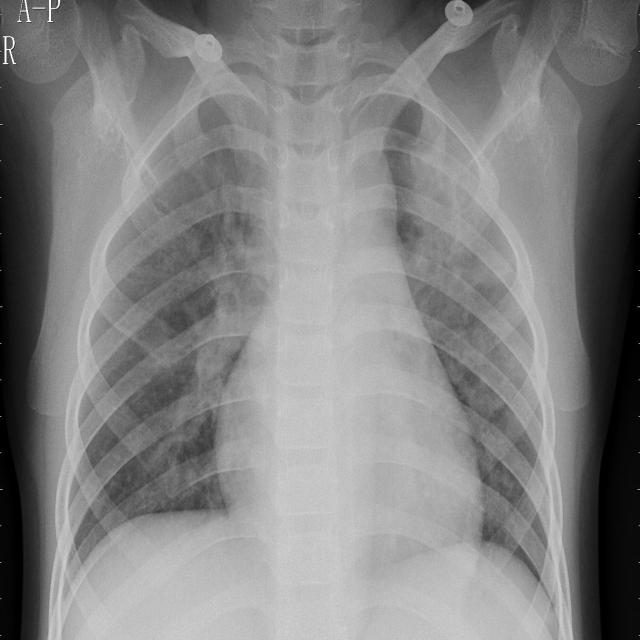low-pneumonia: (179, 139, 272, 386), (412, 111, 497, 294)
